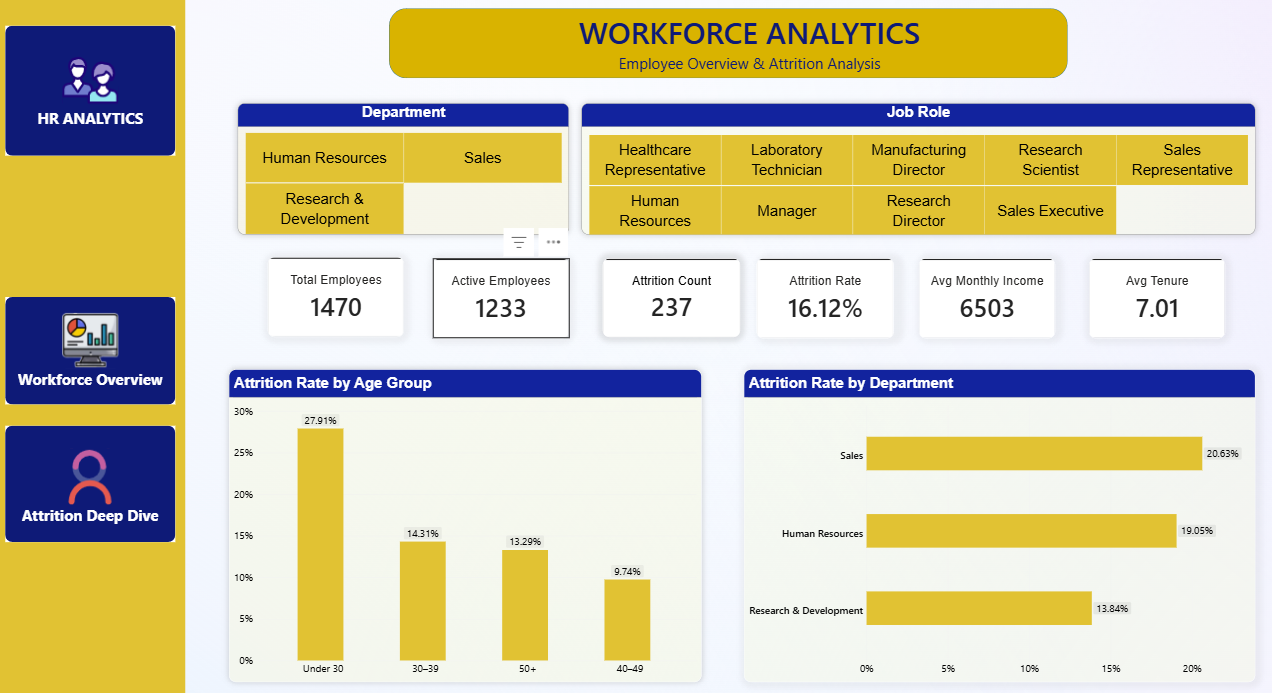

The dashboard page shown, as its layout file describes it:
{"tool":"powerbi","page":{"name":"Workforce Overview","canvas":[4000,2000],"ordinal":0},"visuals":[{"type":"shape","box":[0,0,510,1960],"z":0},{"type":"actionButton","box":[30,1183.3,453.3,310],"z":1000},{"type":"cardVisual","fields":{"Data":["HR.Attrition Count"]},"box":[1623.3,736.7,366.7,210],"z":2000},{"type":"cardVisual","fields":{"Data":["HR.Attrition Rate"]},"box":[2033.3,736.7,366.7,213.3],"z":3000},{"type":"cardVisual","fields":{"Data":["HR.Avg Monthly Income"]},"box":[2466.7,736.7,363.3,213.3],"z":4000},{"type":"cardVisual","fields":{"Data":["HR.Avg Tenure"]},"box":[2920,736.7,363.3,213.3],"z":5000},{"type":"barChart","title":"Attrition Rate by Department","fields":{"Category":["HR.Department"],"Y":["HR.Attrition Rate"]},"box":[2000,1033.3,1363.3,833.3],"z":6000},{"type":"columnChart","fields":{"Category":["HR.Age Group"],"Y":["HR.Attrition Rate"]},"box":[626.7,1033.3,1260,833.3],"z":7000},{"type":"slicer","title":"Department","fields":{"Values":["HR.Department"]},"box":[650,323.3,883.3,350],"z":8000},{"type":"slicer","title":"Job Role","fields":{"Values":["HR.JobRole"]},"box":[1566.7,323.3,1796.7,350],"z":9000},{"type":"textbox","title":"WORKFORCE ANALYTICS","box":[1060,90,1863.3,200],"z":10000},{"type":"actionButton","box":[30,116.7,453.3,346.7],"z":11000},{"type":"actionButton","box":[30,840,453.3,286.7],"z":12000},{"type":"cardVisual","fields":{"Data":["HR.Active Employees"]},"box":[1170,736.7,363.3,213.3],"z":13000},{"type":"cardVisual","fields":{"Data":["HR.Total Employees"]},"box":[730,733.3,363.3,213.3],"z":14000}]}

Visuals, with their boxes on the page's 4000x2000 design canvas (x1, y1, x2, y2). These are canvas units, not pixel positions in the 1272x693 screenshot, which may show the page scaled, cropped or inside an application window:
shape: left=0, top=0, right=510, bottom=1960
actionButton: left=30, top=1183, right=483, bottom=1493
cardVisual - HR.Attrition Count: left=1623, top=737, right=1990, bottom=947
cardVisual - HR.Attrition Rate: left=2033, top=737, right=2400, bottom=950
cardVisual - HR.Avg Monthly Income: left=2467, top=737, right=2830, bottom=950
cardVisual - HR.Avg Tenure: left=2920, top=737, right=3283, bottom=950
"Attrition Rate by Department" barChart: left=2000, top=1033, right=3363, bottom=1867
columnChart - HR.Age Group x HR.Attrition Rate: left=627, top=1033, right=1887, bottom=1867
"Department" slicer: left=650, top=323, right=1533, bottom=673
"Job Role" slicer: left=1567, top=323, right=3363, bottom=673
"WORKFORCE ANALYTICS" textbox: left=1060, top=90, right=2923, bottom=290
actionButton: left=30, top=117, right=483, bottom=463
actionButton: left=30, top=840, right=483, bottom=1127
cardVisual - HR.Active Employees: left=1170, top=737, right=1533, bottom=950
cardVisual - HR.Total Employees: left=730, top=733, right=1093, bottom=947
